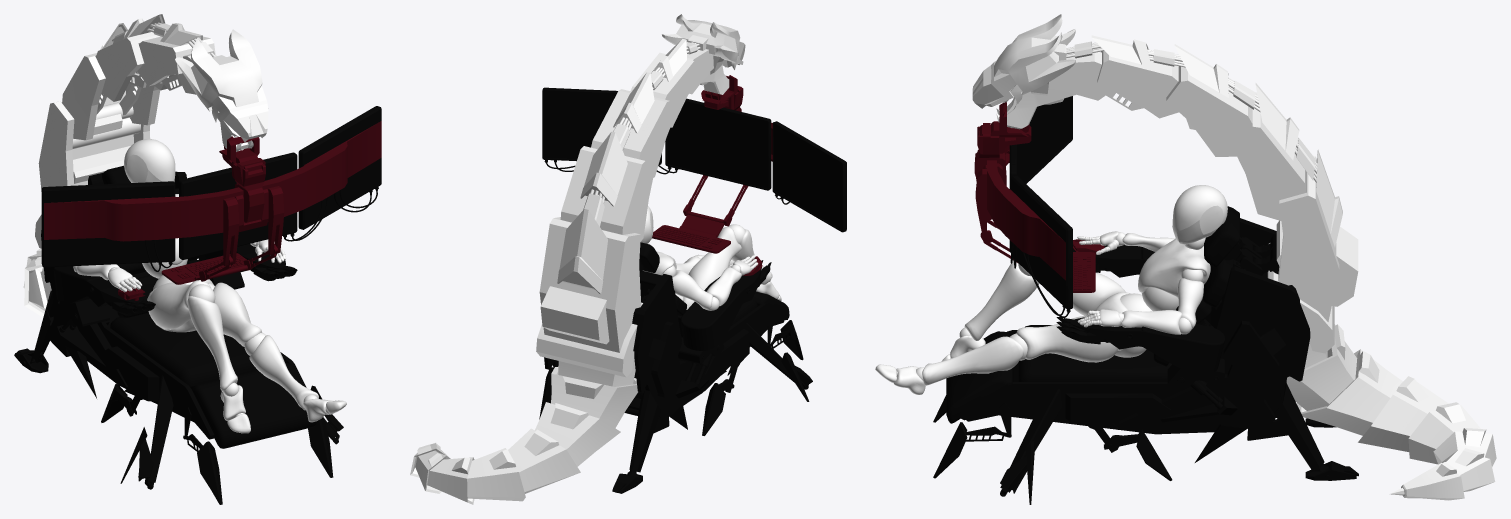
The model's file is dragon2.glb.
The picture shows the model from 3 angles, left to right: view 1: azimuth 30°, elevation 25°; view 2: azimuth 150°, elevation 25°; view 3: azimuth 270°, elevation 25°; orthographic projection. The views are drawn at different scales.
Visible parts, largest first — view 1: a1UVs3, a2UVs1, JUST_MAT_xBot_, a1UVs1, a1UVs4, mainHead, monitor_right, monitorMid, monitor_left, mech, tail_2_1, a2UVs1_3 (+1 smaller); view 2: a1UVs1, a1UVs3, tail_2_1, monitorMid, monitor_right, JUST_MAT_xBot_, monitor_left, mainHead, a2UVs1, a1UVs4; view 3: a1UVs3, a1UVs1, JUST_MAT_xBot_, tail_2_1, a1UVs4, mainHead, a2UVs1, monitor_right, monitor_left, a2UVs1_3.
Boxes of the visible parts, bbox=[...] form: a1UVs3: bbox=[14, 171, 343, 504]; a2UVs1: bbox=[44, 121, 381, 300]; JUST_MAT_xBot_: bbox=[73, 139, 346, 433]; a1UVs1: bbox=[35, 14, 216, 248]; a1UVs4: bbox=[102, 165, 378, 448]; mainHead: bbox=[175, 29, 268, 151]; monitor_right: bbox=[41, 181, 175, 267]; monitorMid: bbox=[179, 152, 297, 259]; monitor_left: bbox=[298, 106, 381, 229]; mech: bbox=[72, 71, 181, 148]; tail_2_1: bbox=[23, 22, 243, 317]; a2UVs1_3: bbox=[232, 162, 265, 222]; a1UVs1: bbox=[536, 38, 713, 377]; a1UVs3: bbox=[539, 260, 812, 493]; tail_2_1: bbox=[410, 42, 700, 504]; monitorMid: bbox=[665, 98, 771, 190]; monitor_right: bbox=[772, 121, 846, 232]; JUST_MAT_xBot_: bbox=[641, 206, 781, 310]; monitor_left: bbox=[542, 87, 661, 164]; mainHead: bbox=[662, 14, 745, 94]; a2UVs1: bbox=[652, 123, 772, 275]; a1UVs4: bbox=[544, 160, 789, 340]; a1UVs3: bbox=[933, 218, 1358, 504]; a1UVs1: bbox=[1031, 35, 1358, 353]; JUST_MAT_xBot_: bbox=[875, 185, 1227, 394]; tail_2_1: bbox=[1011, 41, 1496, 500]; a1UVs4: bbox=[946, 206, 1239, 423]; mainHead: bbox=[972, 14, 1075, 129]; a2UVs1: bbox=[975, 145, 1104, 292]; monitor_right: bbox=[1016, 96, 1072, 183]; monitor_left: bbox=[1011, 175, 1072, 309]; a2UVs1_3: bbox=[974, 126, 1006, 185].
Bounding box in the file's own units: 17.77 × 20.7 × 27.25.
